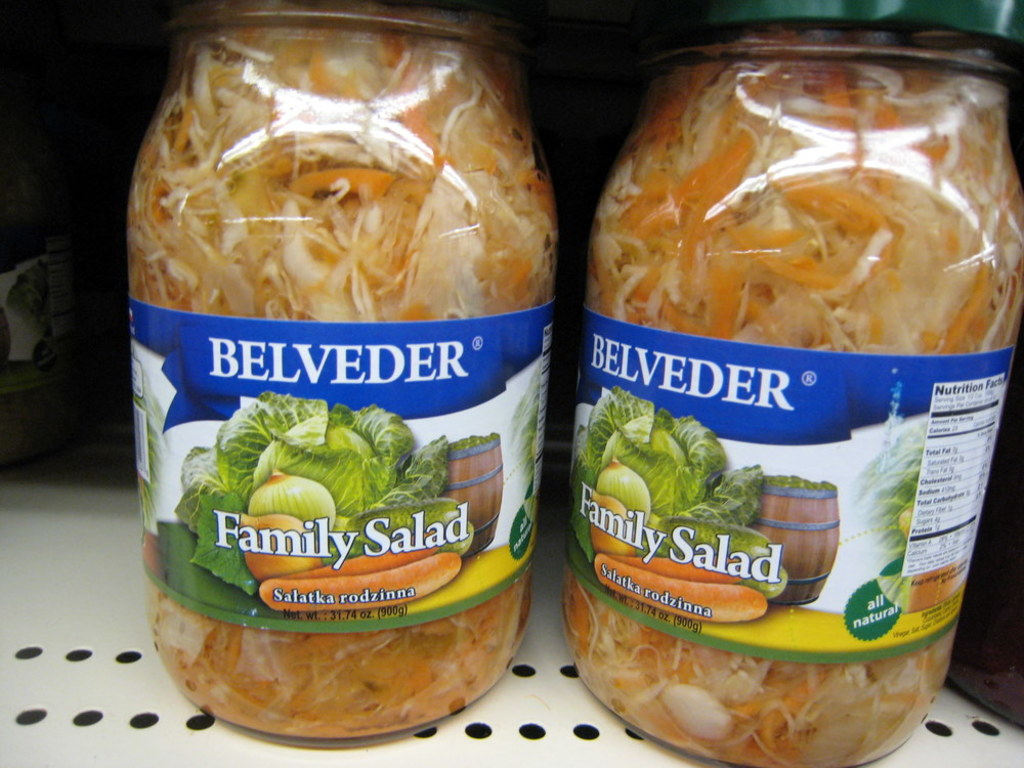Cabbage: (558, 55, 1024, 768), (124, 29, 558, 734), (173, 390, 451, 594), (574, 382, 762, 561)
